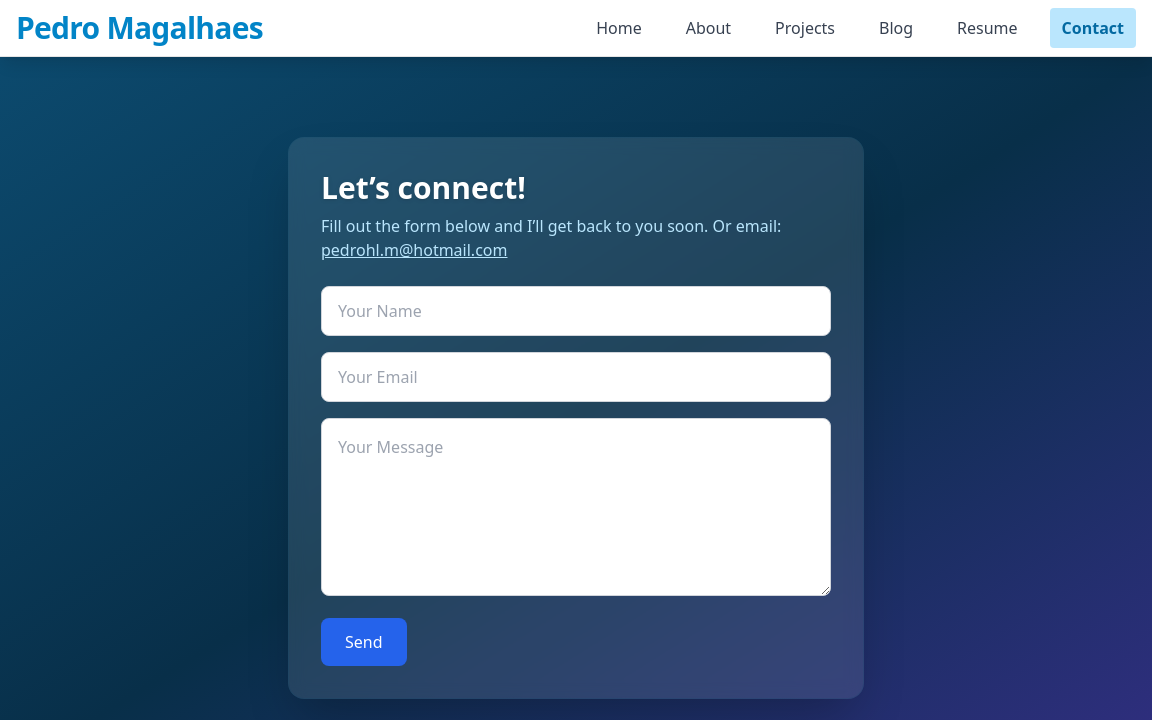
Scenario: Contact form › submits successfully
Type "Pedro" into the field named "name".
click(576, 311); type("Pedro")  # box [321,286,831,336]
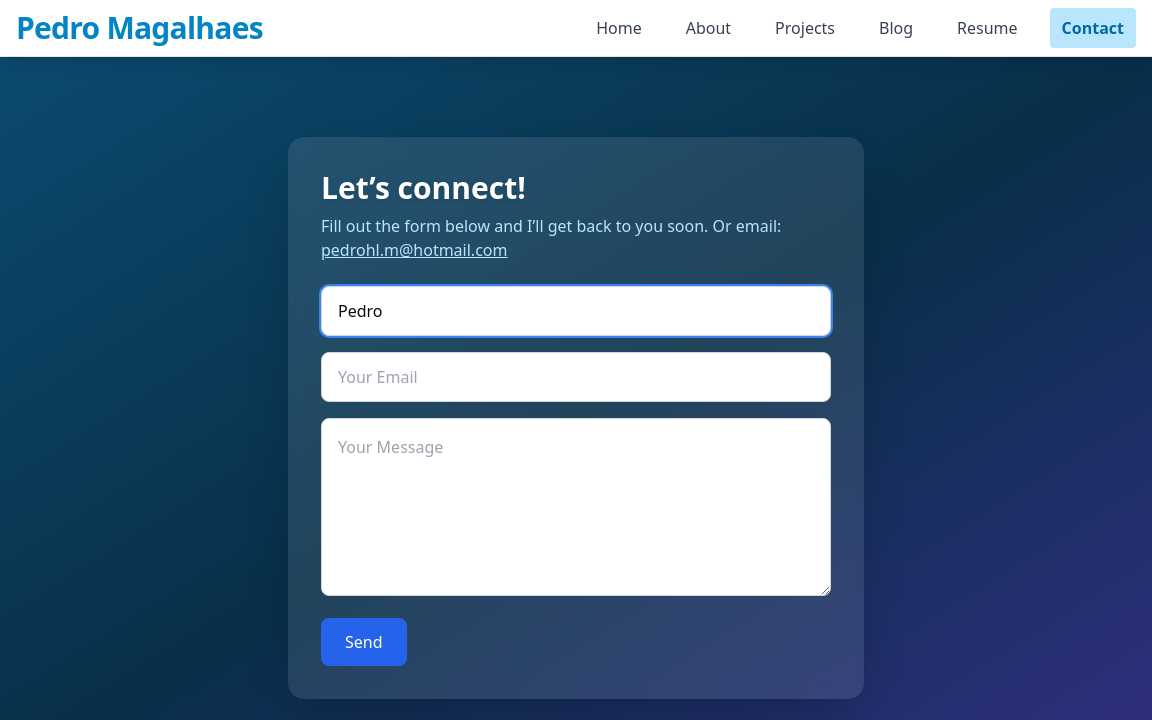
Type "pedro@example.com" into the field named "email".
click(576, 377); type("pedro@example.com")  # box [321,352,831,402]
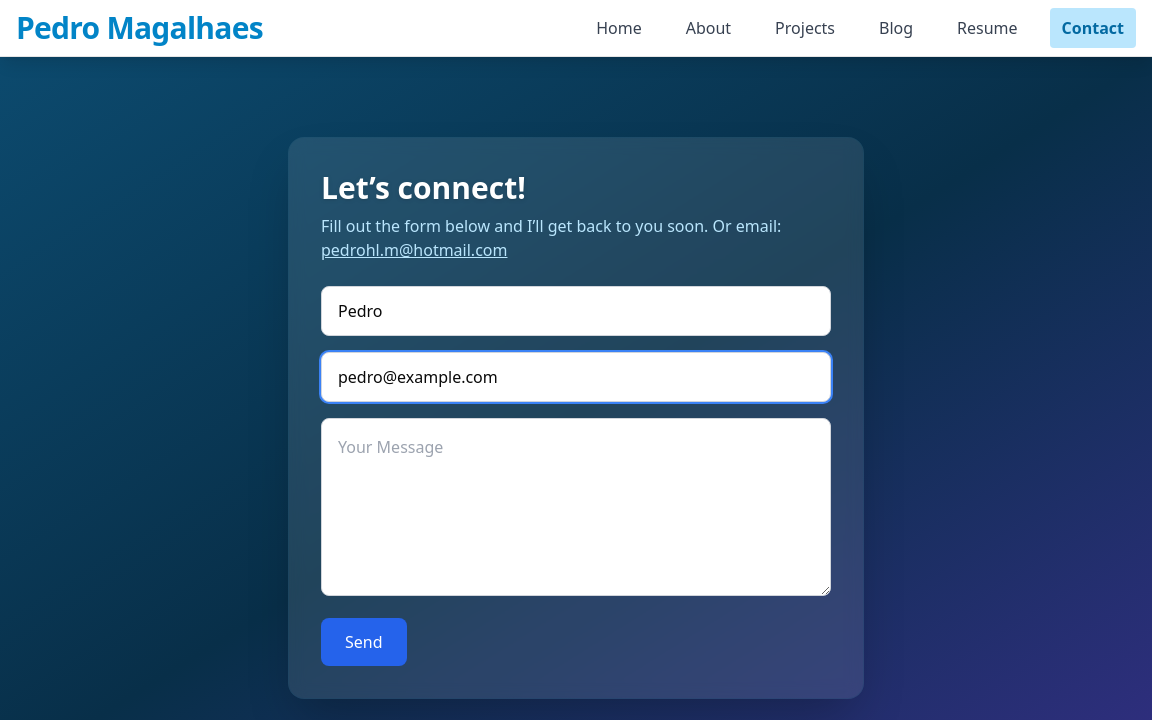
Type "Hello!" into the text box named "message".
click(576, 507); type("Hello!")  # box [321,418,831,596]
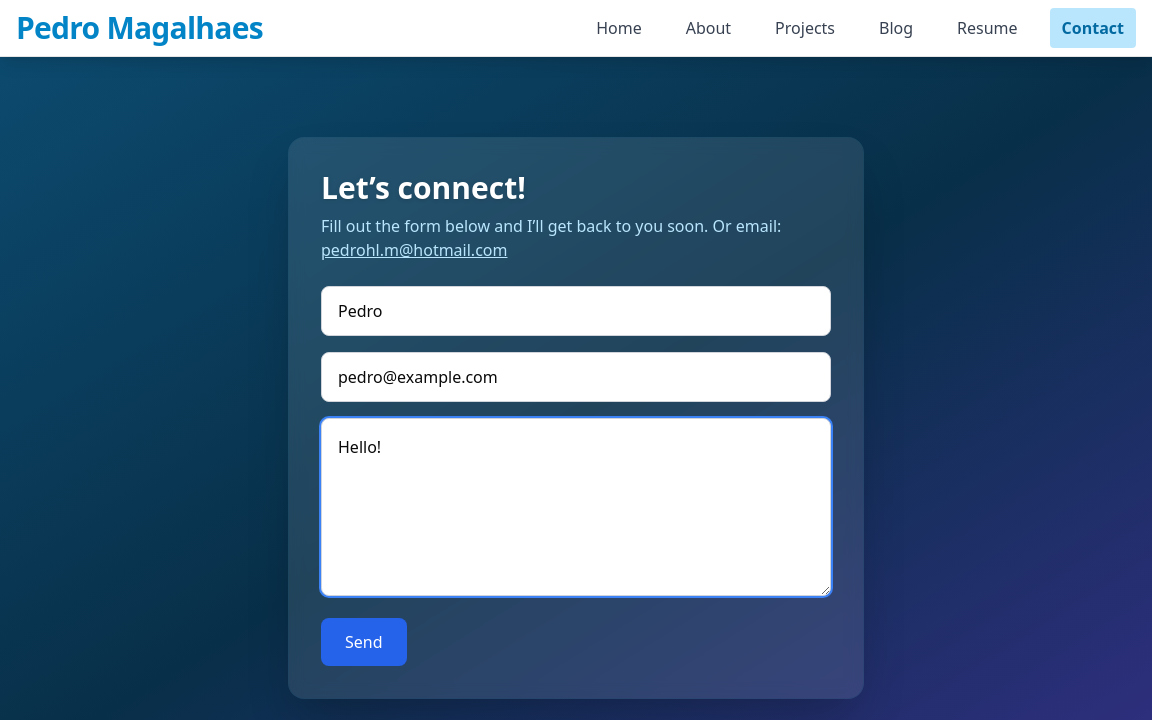
Submit the form, box [321,286,831,666]
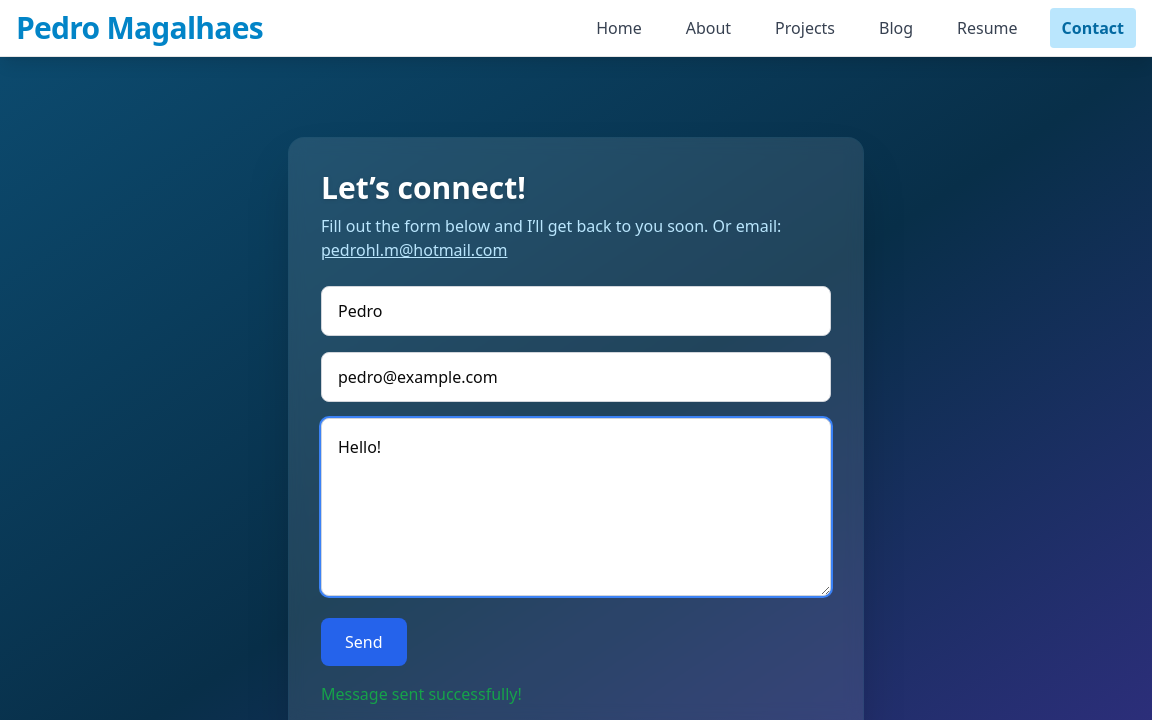
Check: the text "Message sent successfully!" is shown, box [321,683,522,705]
